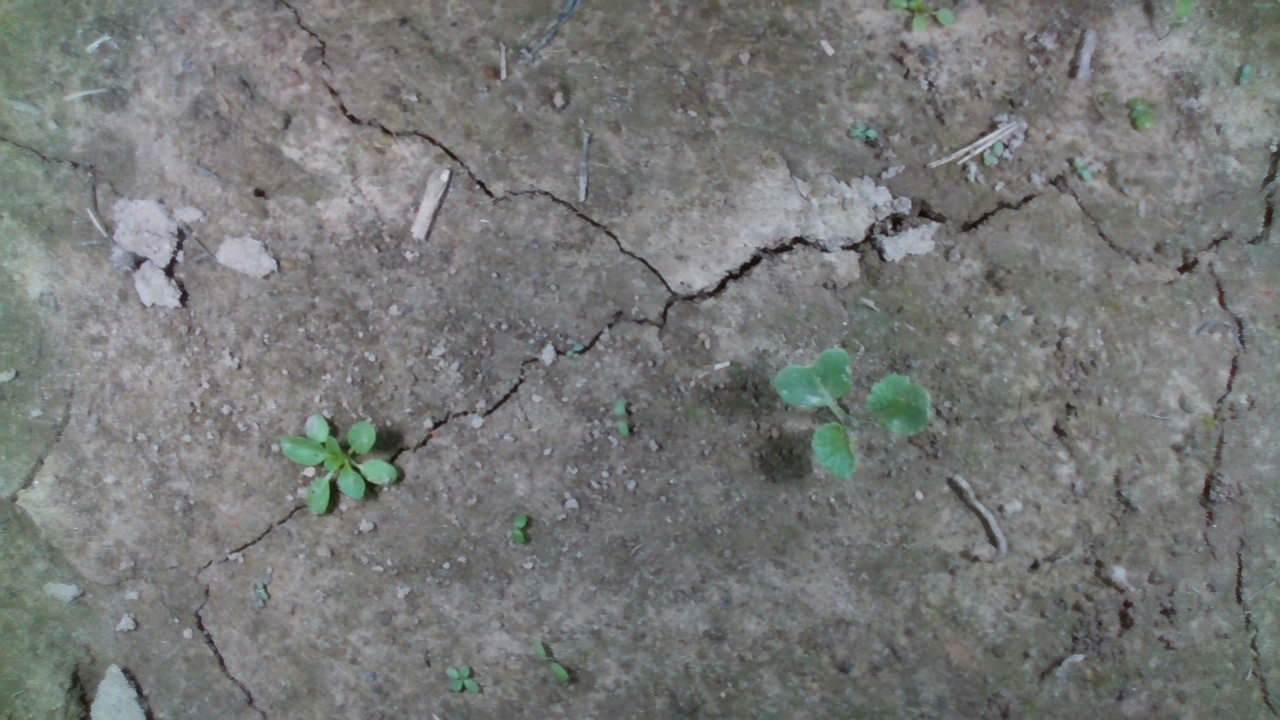weed: (532, 638, 570, 684), (446, 662, 482, 695), (1125, 95, 1155, 133), (844, 114, 877, 143), (510, 510, 530, 547), (613, 398, 631, 437), (1237, 60, 1255, 89)
